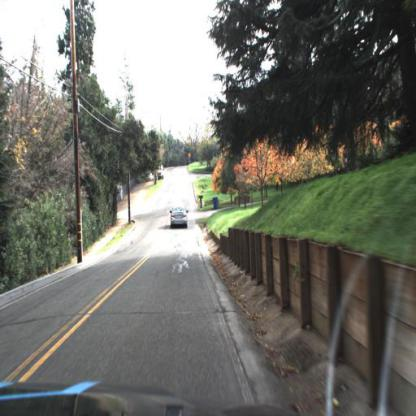car: (169, 204, 189, 234), (155, 166, 165, 182)
truck: (158, 165, 167, 183)
